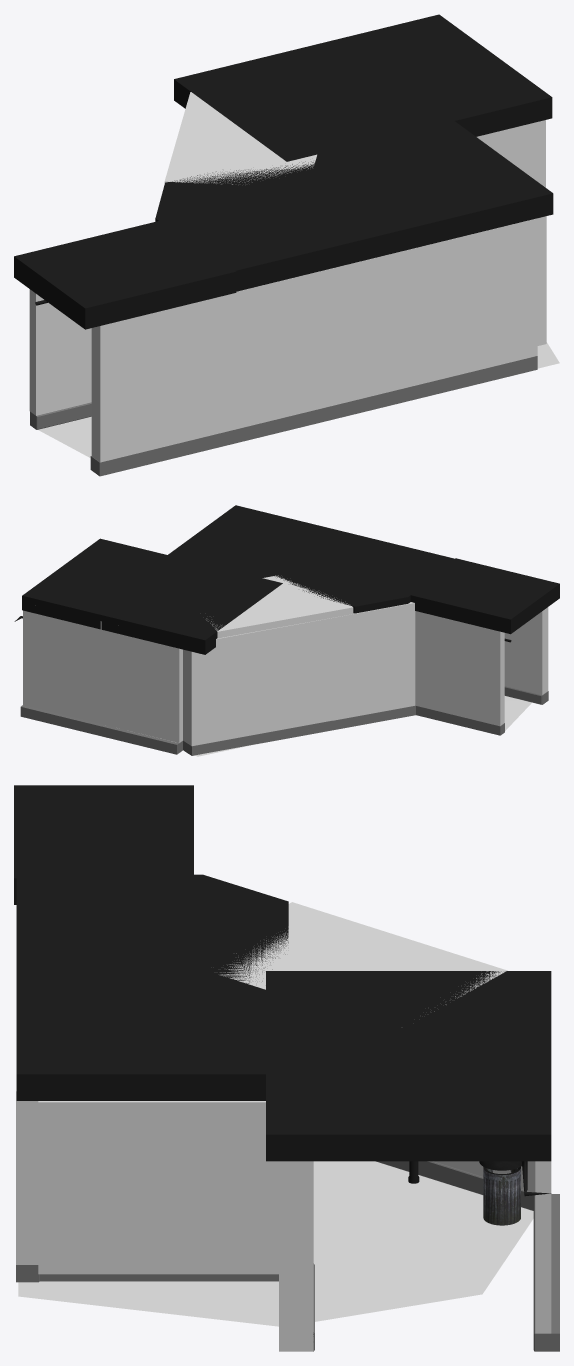
Rendered from station-optimized2.fbx.
3 renders of one model, top to bottom at view 1: azimuth 30°, elevation 25°; view 2: azimuth 150°, elevation 25°; view 3: azimuth 270°, elevation 25°, orthographic. The views are drawn at different scales.
Visible parts, largest first — view 1: Cube.001, Cube, Plane.016, Plane.017, Cube.002, Cube.003, Plane.011, Plane.004, Plane.002, Plane, Plane.005, Plane.015; view 2: Plane.001, Cube, Cube.001, Plane.006, Plane.004, Cube.002, Cube.003, Plane.016, Plane.012, Plane.013, Plane.014, Plane.015 (+2 smaller); view 3: Cube.001, Cube, Plane.005, Plane, Cube.002, Cube.003, Plane.002, Plane.017, Plane.006, Plane.022, Plane.012, Plane.003 (+2 smaller).
Part boxes in pixels (x1,y1,x2,y2): Cube.001: [155, 121, 553, 291]; Cube: [174, 14, 552, 161]; Plane.016: [91, 271, 319, 462]; Plane.017: [319, 218, 537, 408]; Cube.002: [14, 221, 236, 329]; Cube.003: [164, 92, 316, 184]; Plane.011: [90, 356, 537, 476]; Plane.004: [29, 289, 91, 415]; Plane.002: [477, 120, 545, 187]; Plane: [38, 342, 559, 457]; Plane.005: [537, 216, 546, 345]; Plane.015: [30, 402, 91, 429]; Plane.001: [183, 602, 415, 745]; Cube: [22, 538, 282, 654]; Cube.001: [168, 505, 458, 613]; Plane.006: [23, 610, 182, 742]; Plane.004: [415, 611, 504, 726]; Cube.002: [410, 558, 559, 634]; Cube.003: [206, 575, 353, 638]; Plane.016: [504, 607, 548, 695]; Plane.012: [20, 705, 182, 754]; Plane.013: [183, 720, 331, 755]; Plane.014: [278, 705, 415, 740]; Plane.015: [416, 706, 504, 735]; Cube.001: [16, 874, 288, 1100]; Cube: [266, 971, 551, 1161]; Plane.005: [38, 1101, 278, 1274]; Plane: [18, 1161, 533, 1326]; Cube.002: [14, 785, 193, 904]; Cube.003: [220, 902, 507, 1011]; Plane.002: [279, 1161, 313, 1351]; Plane.017: [16, 956, 38, 1264]; Plane.006: [535, 1161, 551, 1333]; Plane.022: [479, 1161, 521, 1225]; Plane.012: [533, 1194, 559, 1351]; Plane.003: [39, 1274, 278, 1281].
Bounding box in the file's own units: 3057 × 897 × 1974.
Materials: 15 (4 with a texture image).
